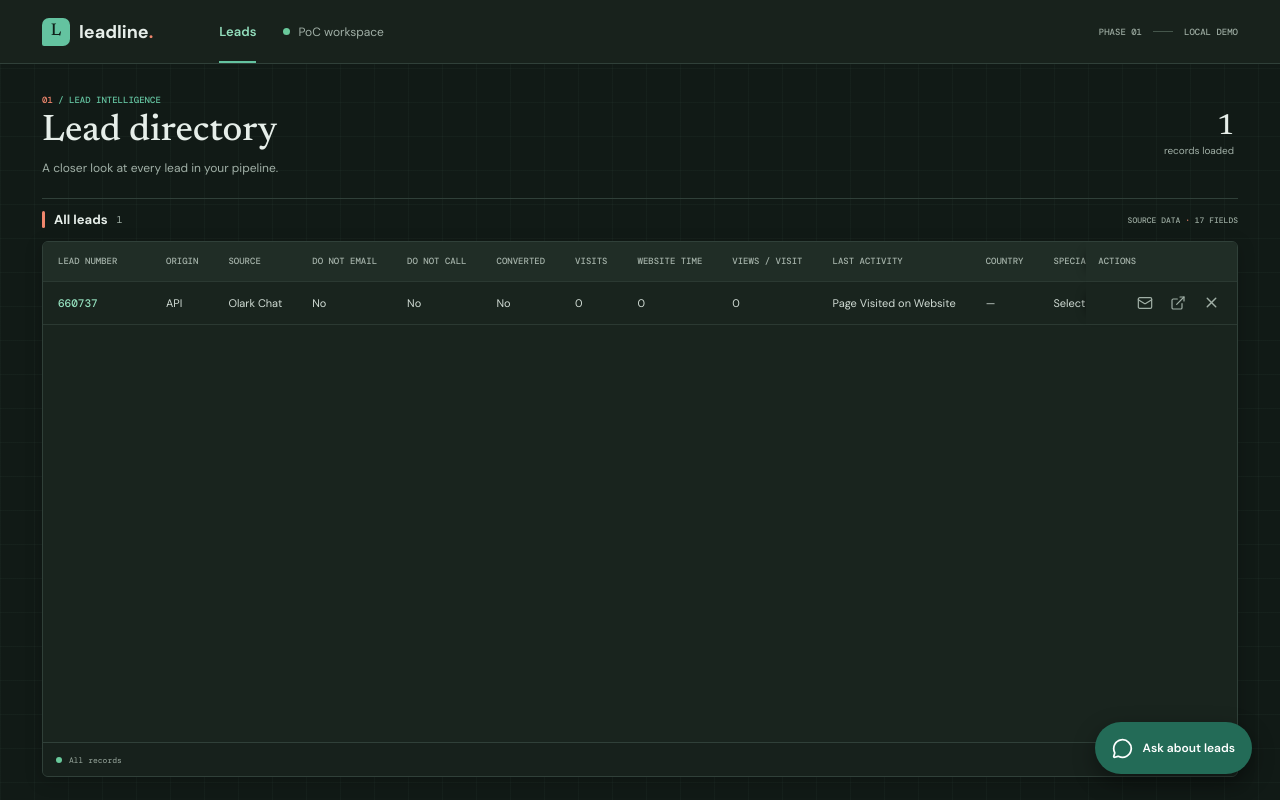
Test: leads dashboard › sends a question to the chat endpoint and shows the reply
The width and height of the screenshot is (1280, 800).
Click the button with aria-label "Open chat" at {"x": 1173, "y": 748}, box [1095,722,1252,774]
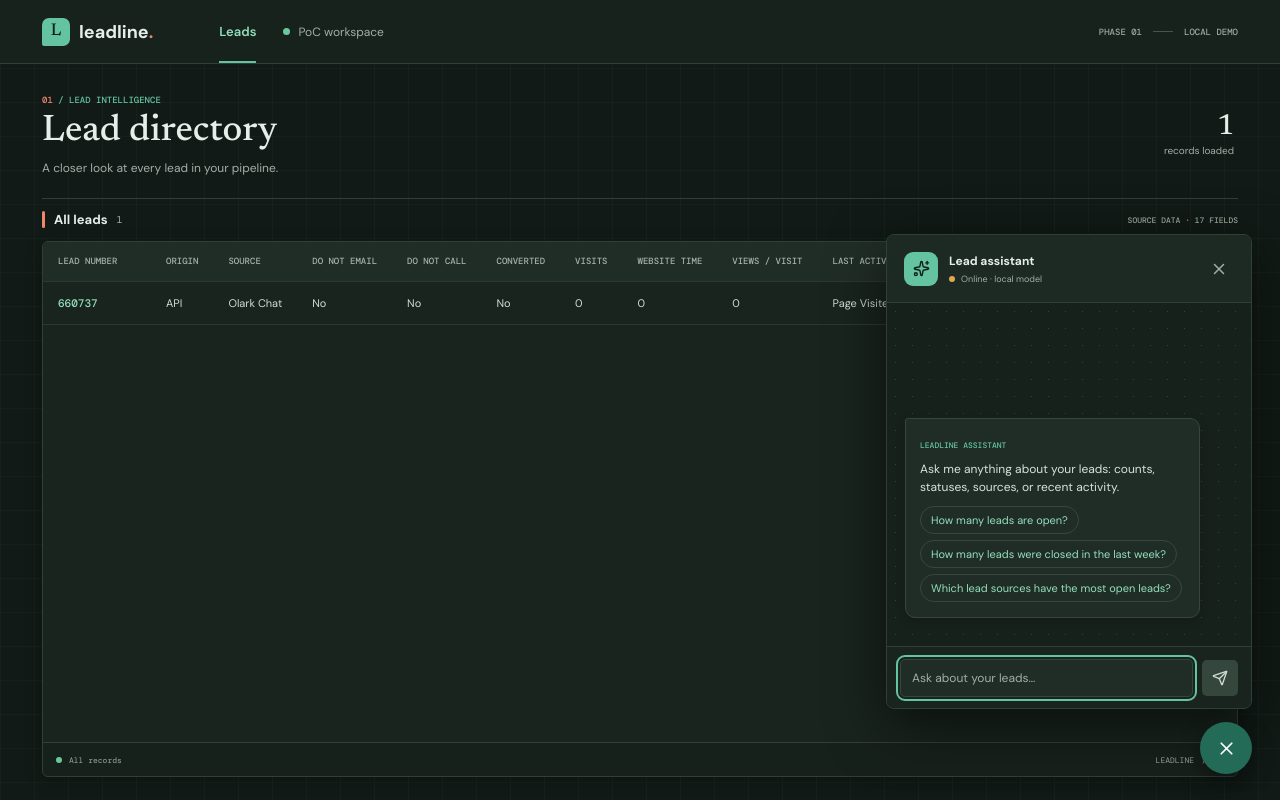
Expected: the dialog named "Chat with leads" is shown, [886,234,1252,709]
Type "How many leads are open?" into the field named "Message" at {"x": 1046, "y": 678}, box [900,658,1193,696]
Then press Enter
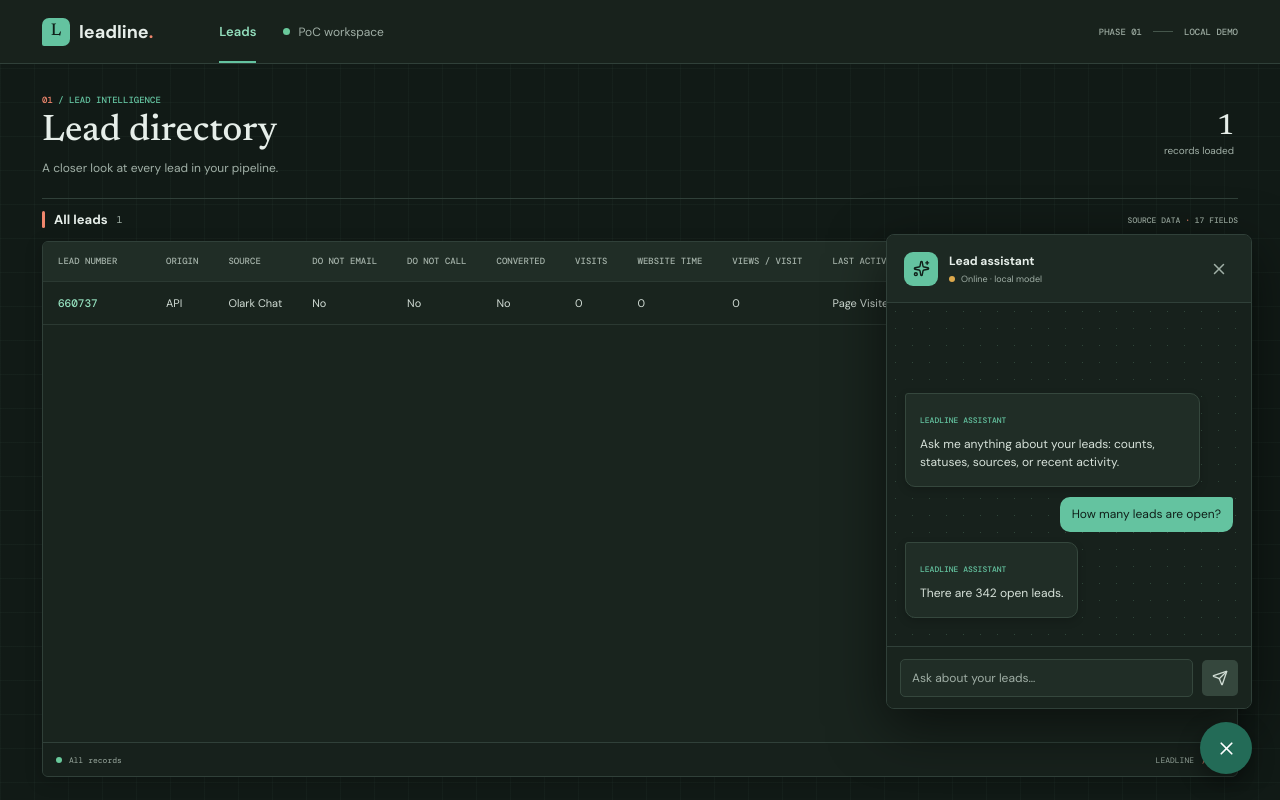
Expected: the text "How many leads are open?" is shown, [1072,506,1221,523]
Expected: the text "There are 342 open leads." is shown, [920,584,1063,602]
Type "From Google?" into the field named "Message" at {"x": 1046, "y": 678}, box [900,658,1193,696]
Then press Enter
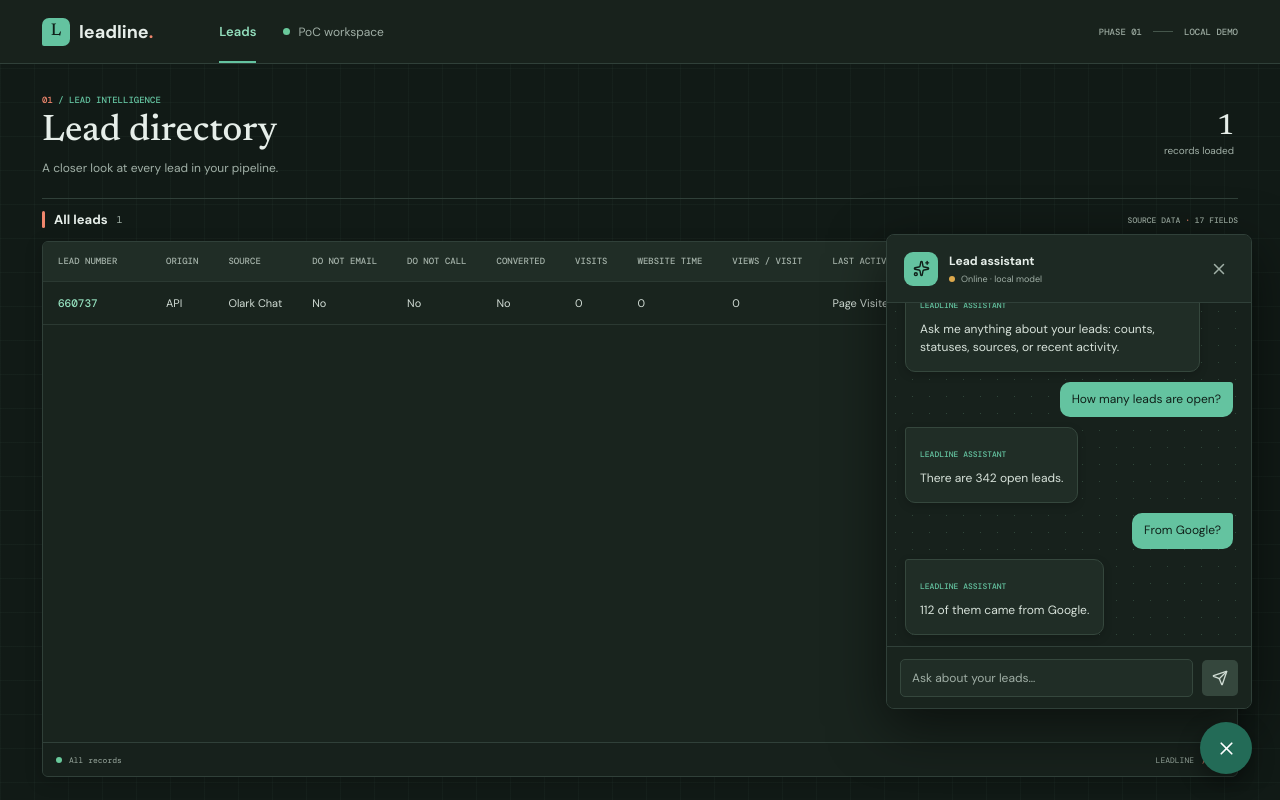
Expected: the text "112 of them came from Google." is shown, [920,601,1089,619]
